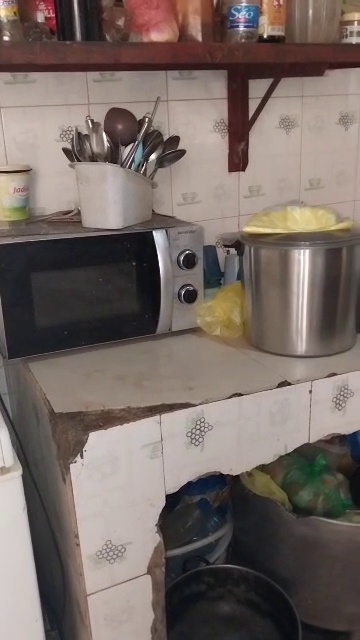microwave: (5, 217, 213, 361)
